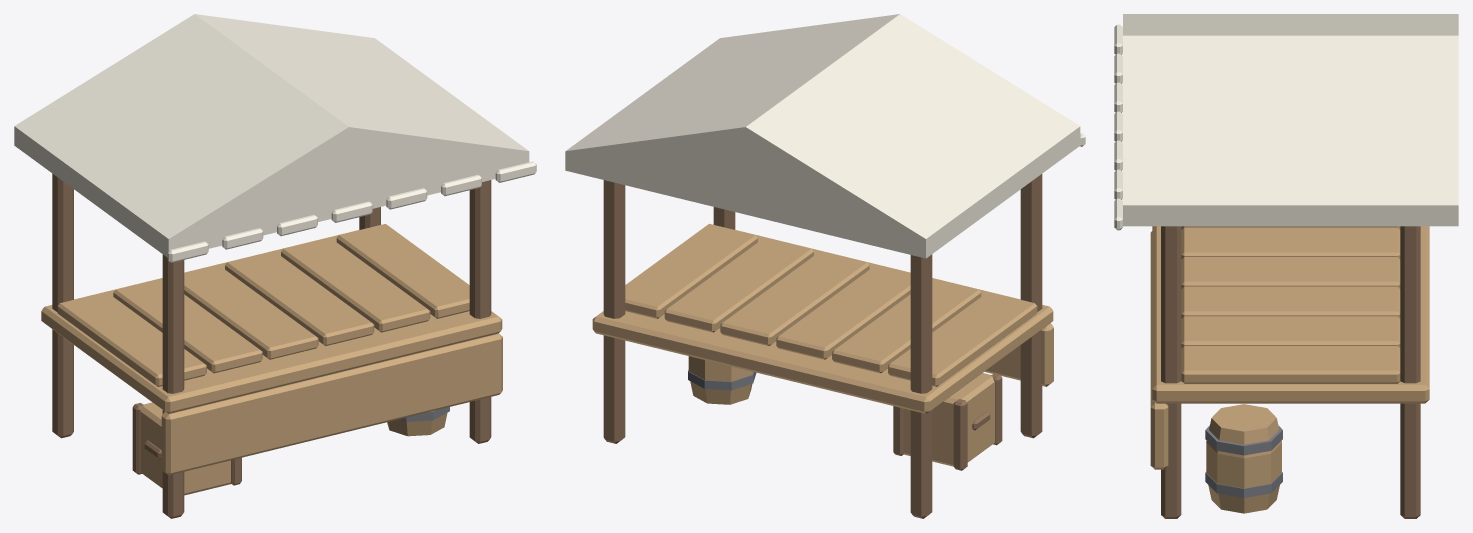
The model's file is medieval-mmo-starter-realm-market-stall-cream-e095e409.glb.
3 views of the same model, side by side, from view 1: azimuth 30°, elevation 25°; view 2: azimuth 150°, elevation 25°; view 3: azimuth 270°, elevation 25° (orthographic). The views are drawn at different scales.
Parts seen in each view (by area): view 1: market-stall-cream; view 2: market-stall-cream; view 3: market-stall-cream.
Boxes of the visible parts, bbox=[...] form: market-stall-cream: bbox=[14, 14, 536, 518]; market-stall-cream: bbox=[565, 14, 1085, 518]; market-stall-cream: bbox=[1114, 14, 1458, 518].
Size of the model in its own units: 3.16 by 3.02 by 2.36.
